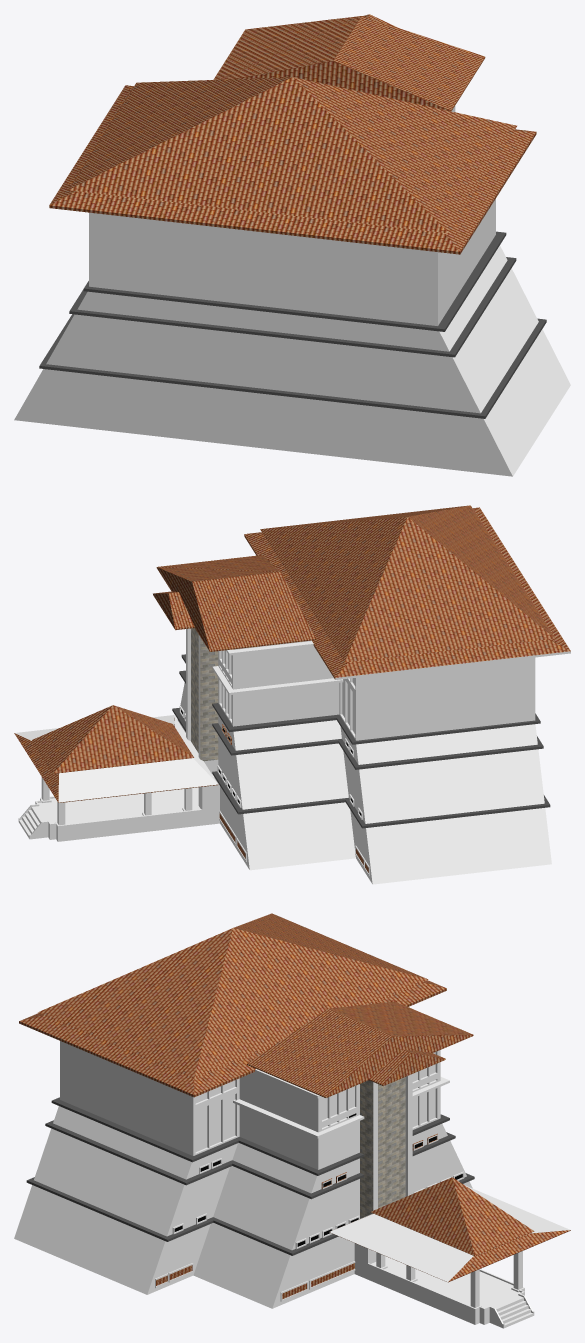
File: Museum Keris.fbx
The picture shows the model from 3 angles, top to bottom: view 1: azimuth 30°, elevation 25°; view 2: azimuth 150°, elevation 25°; view 3: azimuth 270°, elevation 25°; orthographic projection. The views are drawn at different scales.
Visible parts, largest first — view 1: Group16, Group1, Group2, Group3, Group10; view 2: Group16, Group1, Group2, Group3, Group10, Group9, Group11; view 3: Group16, Group1, Group10, Group3, Group2, Group9, Group5.
Boxes of the visible parts, x1=… form: Group16: x1=14, y1=106, x2=570, y2=476; Group1: x1=49, y1=14, x2=536, y2=254; Group2: x1=39, y1=314, x2=546, y2=418; Group3: x1=69, y1=257, x2=516, y2=357; Group10: x1=83, y1=231, x2=506, y2=331; Group16: x1=18, y1=628, x2=551, y2=884; Group1: x1=14, y1=505, x2=570, y2=802; Group2: x1=172, y1=708, x2=550, y2=828; Group3: x1=179, y1=670, x2=543, y2=769; Group10: x1=181, y1=654, x2=540, y2=744; Group9: x1=212, y1=666, x2=343, y2=695; Group11: x1=226, y1=641, x2=313, y2=655; Group16: x1=14, y1=1041, x2=534, y2=1328; Group1: x1=19, y1=913, x2=570, y2=1282; Group10: x1=51, y1=1097, x2=449, y2=1175; Group3: x1=45, y1=1120, x2=455, y2=1199; Group2: x1=26, y1=1173, x2=474, y2=1255; Group9: x1=233, y1=1077, x2=449, y2=1138; Group5: x1=280, y1=1261, x2=355, y2=1301.
Bounding box in the file's own units: 6740 × 3658 × 6740.
